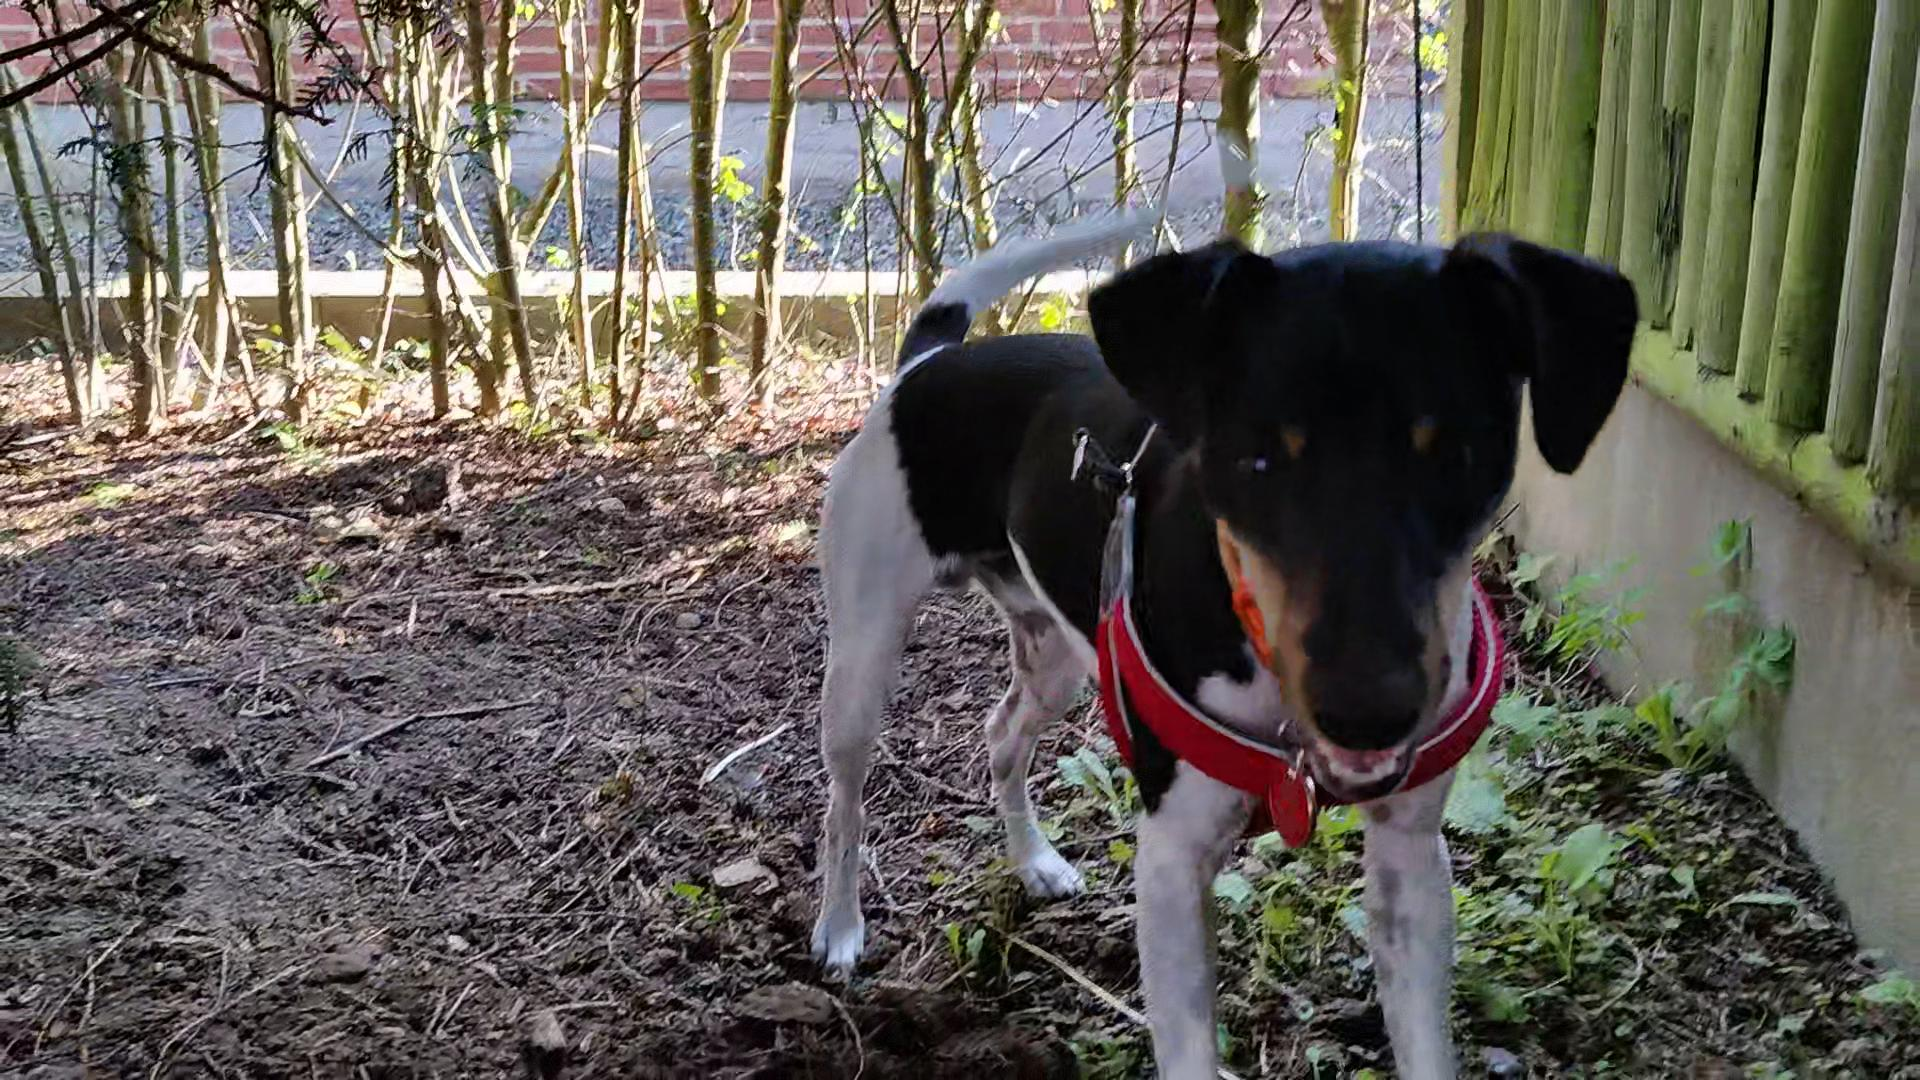Dog: (789, 164, 1667, 1079)
